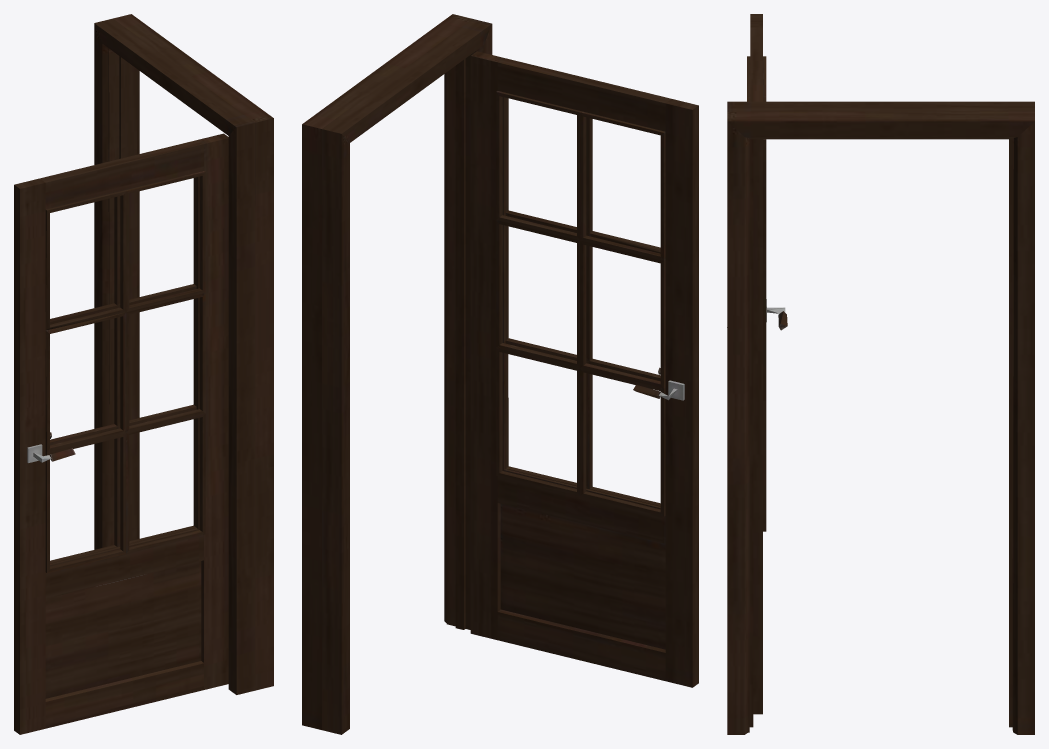
File: Door0023open.obj
3 views of the same model, side by side, from view 1: azimuth 30°, elevation 25°; view 2: azimuth 150°, elevation 25°; view 3: azimuth 270°, elevation 25° (orthographic). The views are drawn at different scales.
Size of the model in its own units: 0.951 by 2.12 by 0.965.
1 material, 1 textured.
